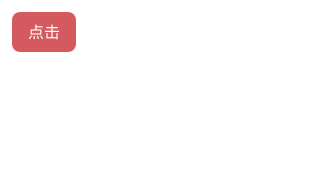
Dropdown › 应该支持图标
Step 1. Click the button "点击" → [44, 32], box [12, 12, 76, 52]
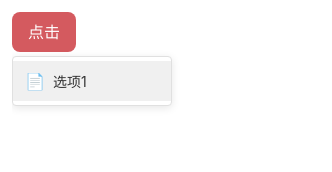
Expected: the text "📄" is shown, [25, 69, 45, 93]
